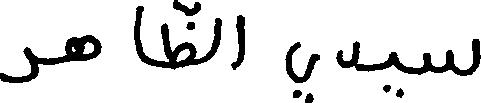X: (426, 34, 480, 80), (162, 0, 192, 74), (286, 37, 317, 102), (0, 42, 36, 87), (68, 30, 100, 66), (337, 36, 358, 75), (234, 10, 244, 74), (135, 1, 142, 66), (213, 13, 219, 60), (390, 47, 395, 93)
